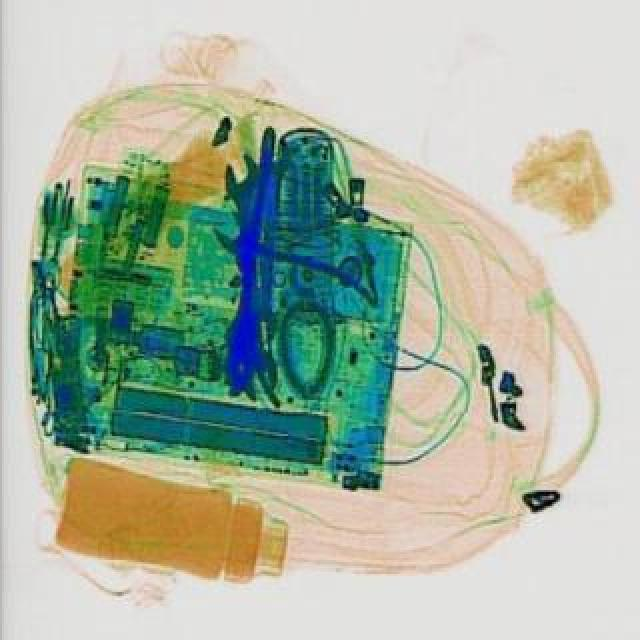scissors: (220, 150, 278, 338)
wrench: (164, 172, 400, 404)
